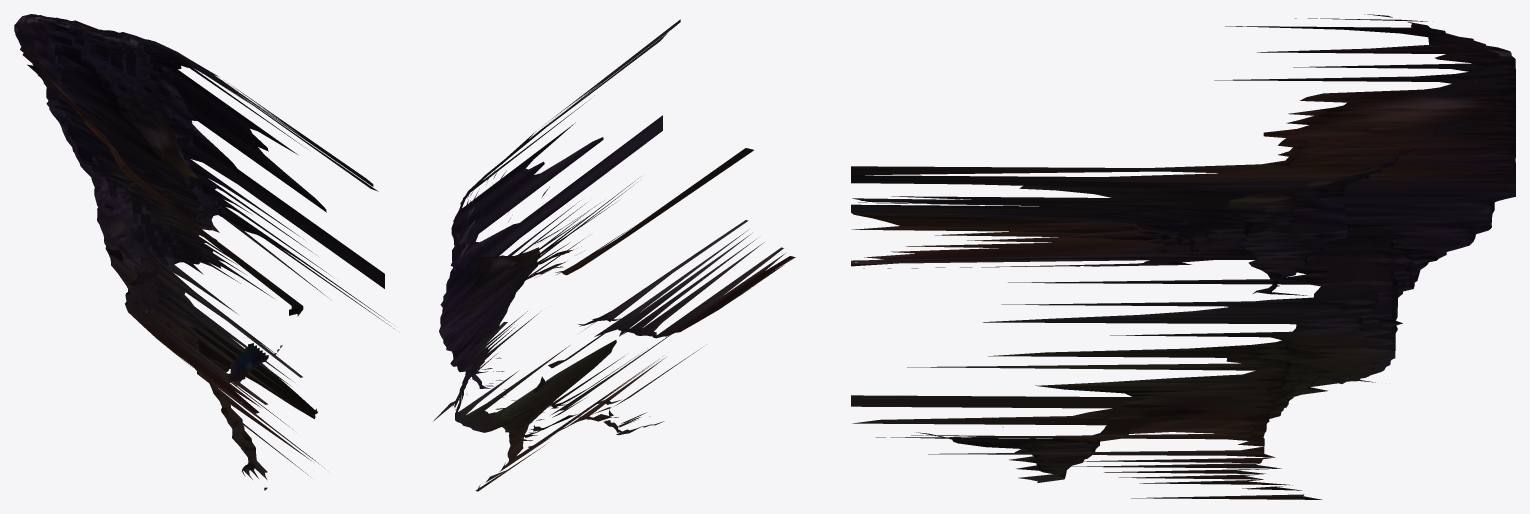
Rendered from frame_00283.glb.
The picture shows the model from 3 angles, left to right: view 1: azimuth 30°, elevation 25°; view 2: azimuth 150°, elevation 25°; view 3: azimuth 270°, elevation 25°; orthographic projection. The views are drawn at different scales.
Visible parts, largest first — view 1: geometry_0; view 2: geometry_0; view 3: geometry_0.
Boxes of the visible parts, bbox=[...] form: geometry_0: bbox=[14, 14, 393, 490]; geometry_0: bbox=[433, 19, 795, 491]; geometry_0: bbox=[851, 14, 1515, 499].
Bounding box in the file's own units: 0.0594 × 0.1154 × 0.16.
1 material, 1 textured.
